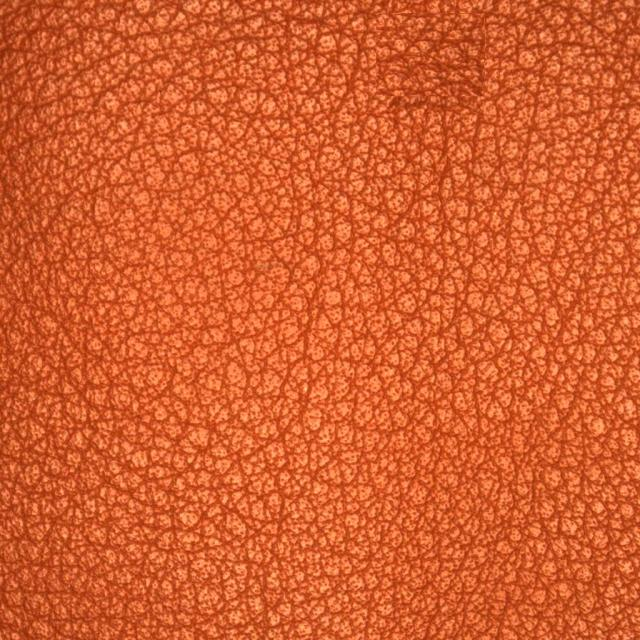Healed Injury: (357, 21, 560, 158)
